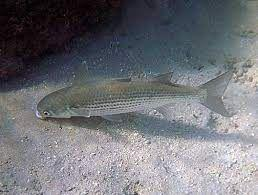Mullet: (36, 68, 238, 126)
